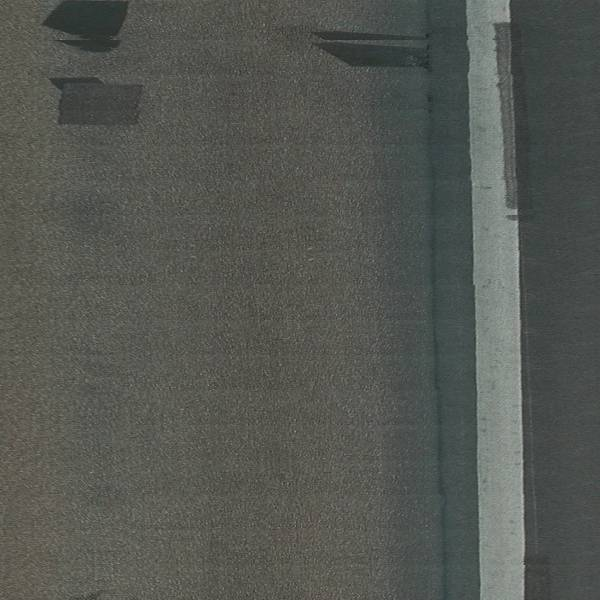road_damage: (53, 79, 149, 130)
